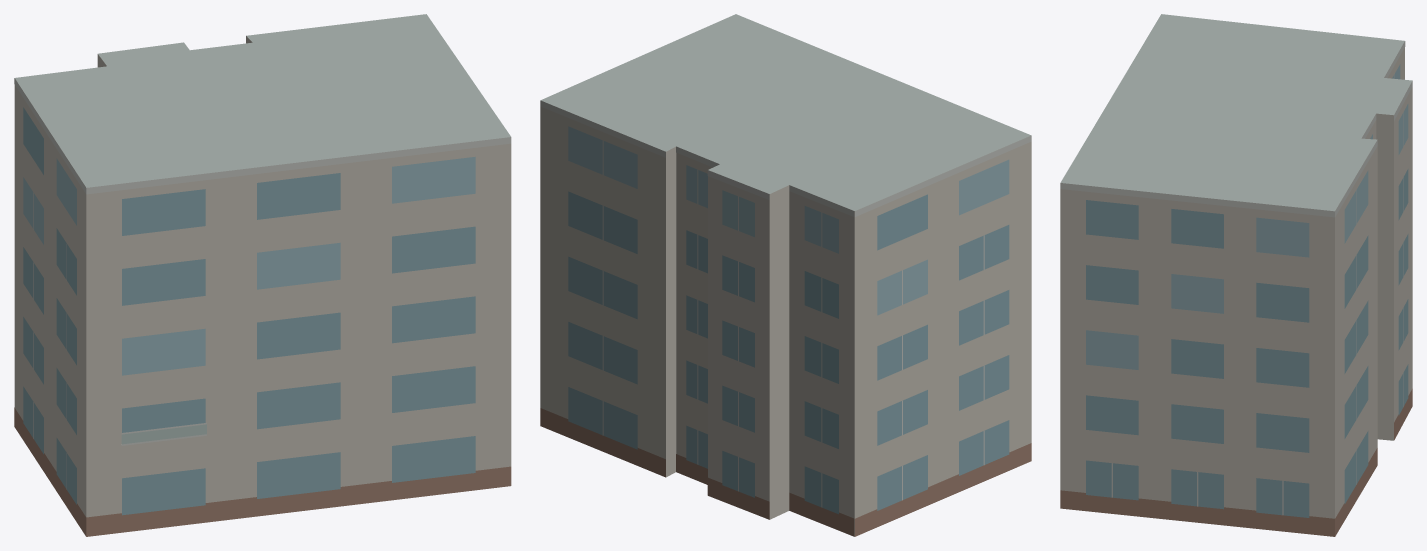
File: survey-upis-32874799.glb
3 renders of one model, left to right at view 1: azimuth 30°, elevation 25°; view 2: azimuth 150°, elevation 25°; view 3: azimuth 270°, elevation 25°, orthographic. The views are drawn at different scales.
Visible parts, largest first — view 1: survey-upis-32874799.tmp; view 2: survey-upis-32874799.tmp; view 3: survey-upis-32874799.tmp.
Part boxes in pixels (left/top/right/bottom): survey-upis-32874799.tmp: left=14, top=14, right=511, bottom=536; survey-upis-32874799.tmp: left=540, top=14, right=1031, bottom=536; survey-upis-32874799.tmp: left=1060, top=14, right=1412, bottom=536.
Size of the model in its own units: 16.87 by 12.98 by 12.74.
